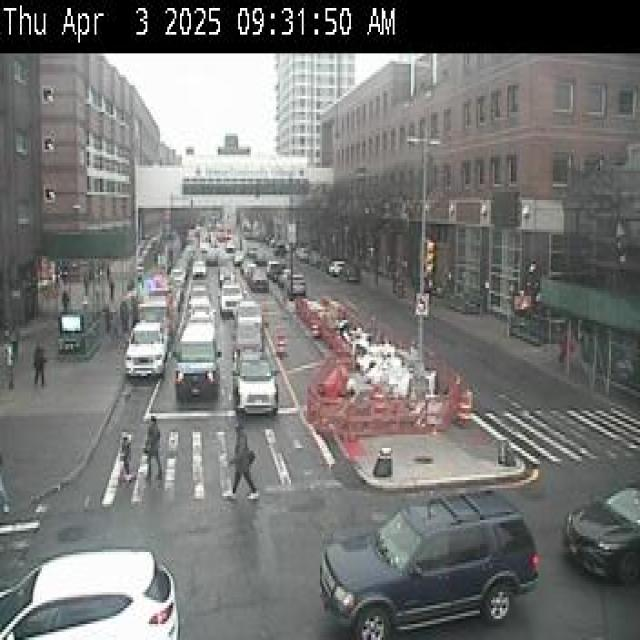parkedCars: (111, 258, 188, 384), (294, 237, 361, 286)
